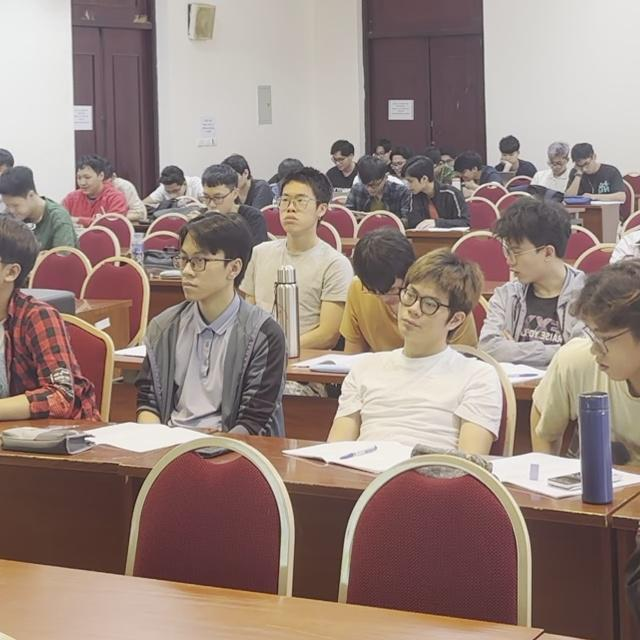Looking away: (586, 321, 637, 377), (500, 237, 538, 285), (202, 187, 228, 213), (6, 193, 28, 220), (75, 169, 95, 194), (407, 173, 420, 194), (165, 184, 182, 199), (333, 153, 347, 171), (578, 159, 593, 175), (500, 149, 516, 164), (363, 180, 379, 194), (460, 167, 474, 182), (552, 157, 563, 175)
Looking forward: (398, 282, 442, 338), (178, 248, 215, 301), (278, 191, 309, 229)
